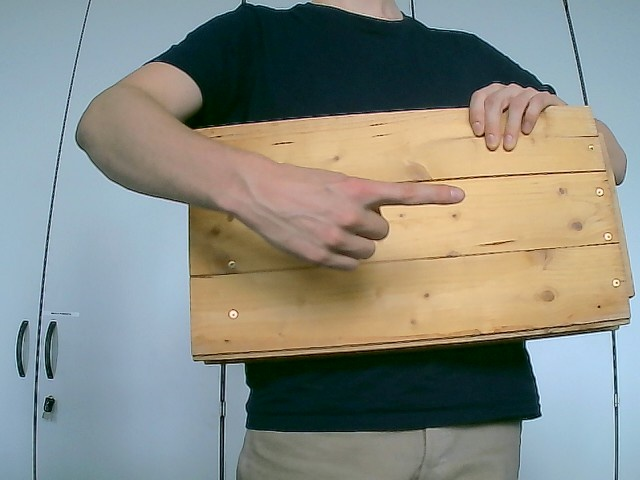left: (233, 159, 466, 272)
